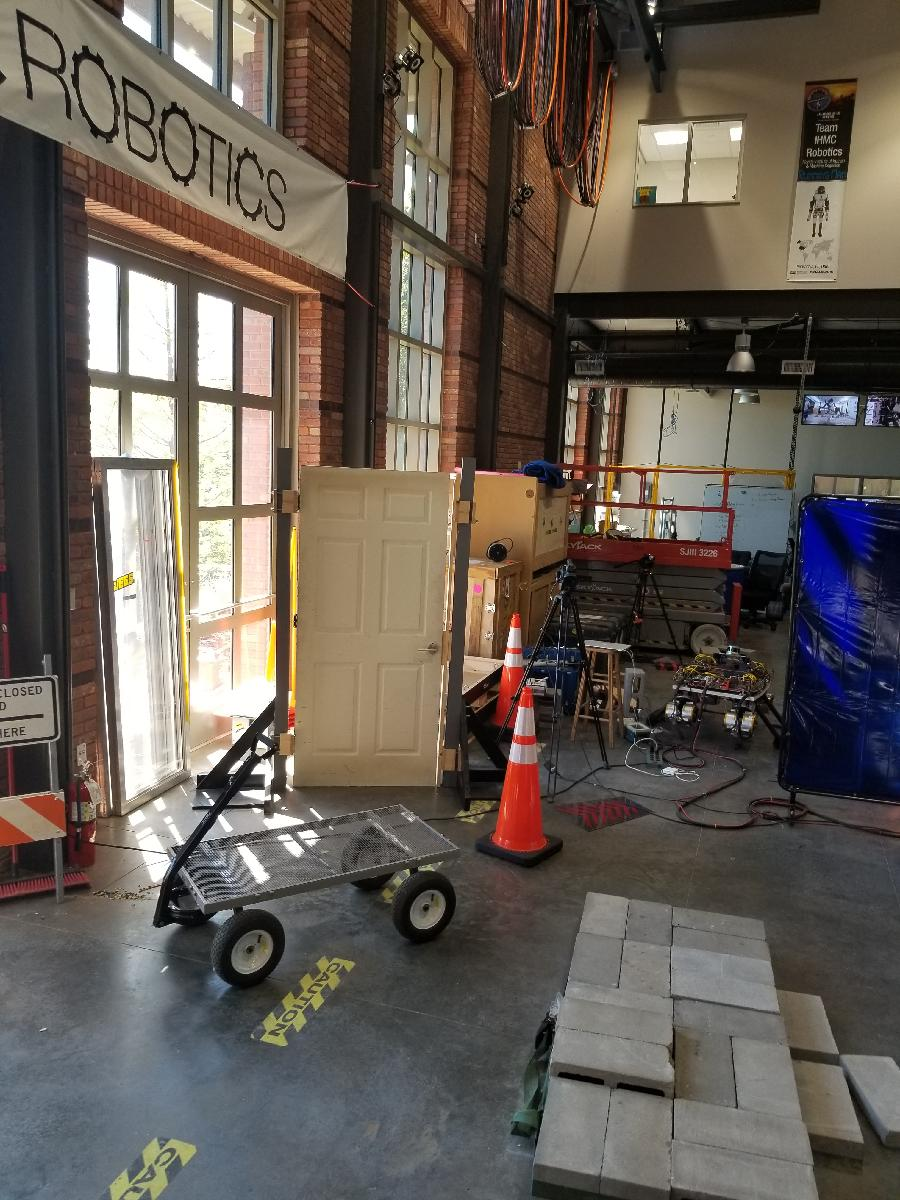door: (293, 461, 451, 791)
doorHandle: (416, 638, 442, 653)
